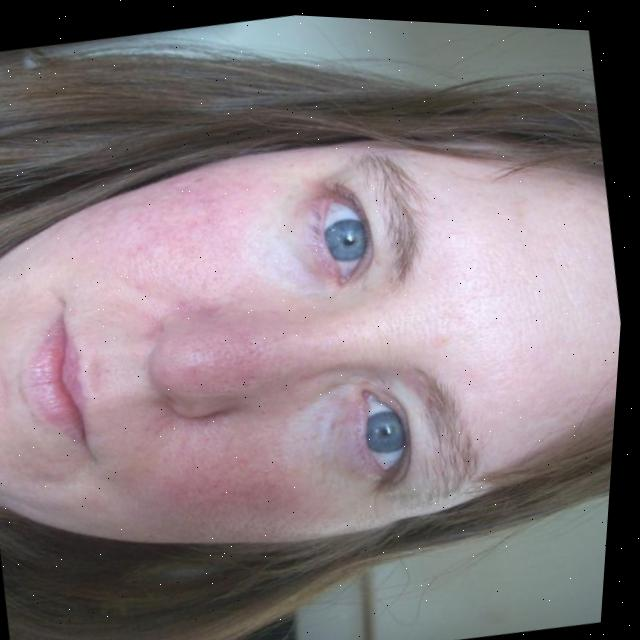Rosacea: (102, 150, 269, 316), (173, 407, 310, 515), (205, 297, 298, 381)
